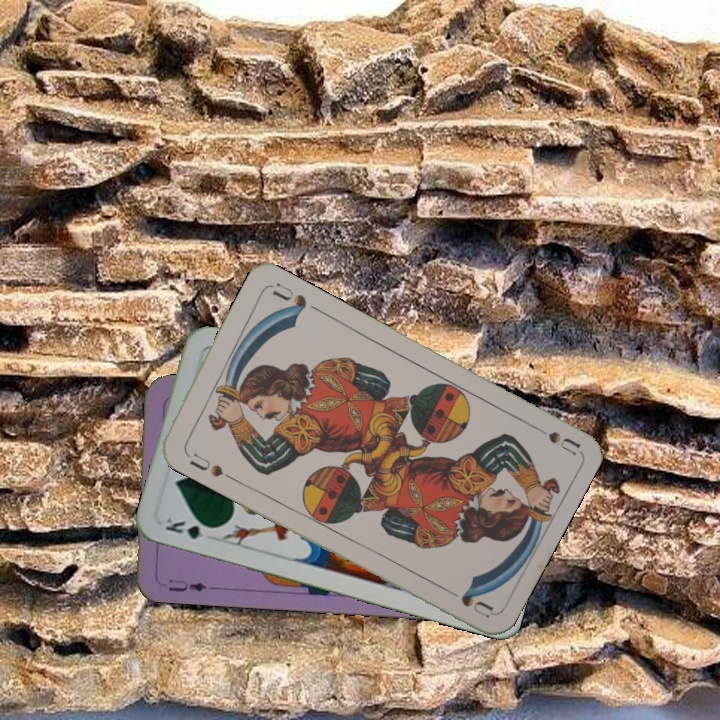EU: (165, 575, 209, 595)
GK: (161, 512, 219, 542)
SU: (525, 419, 581, 457), (181, 446, 226, 480)
